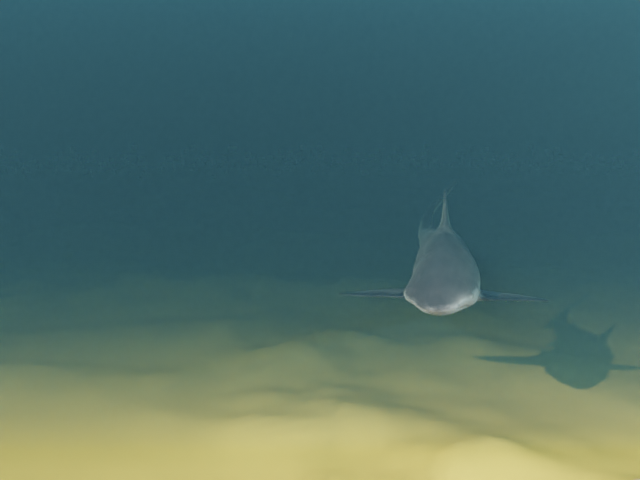Carribean Shark.001: (337, 179, 551, 315)
